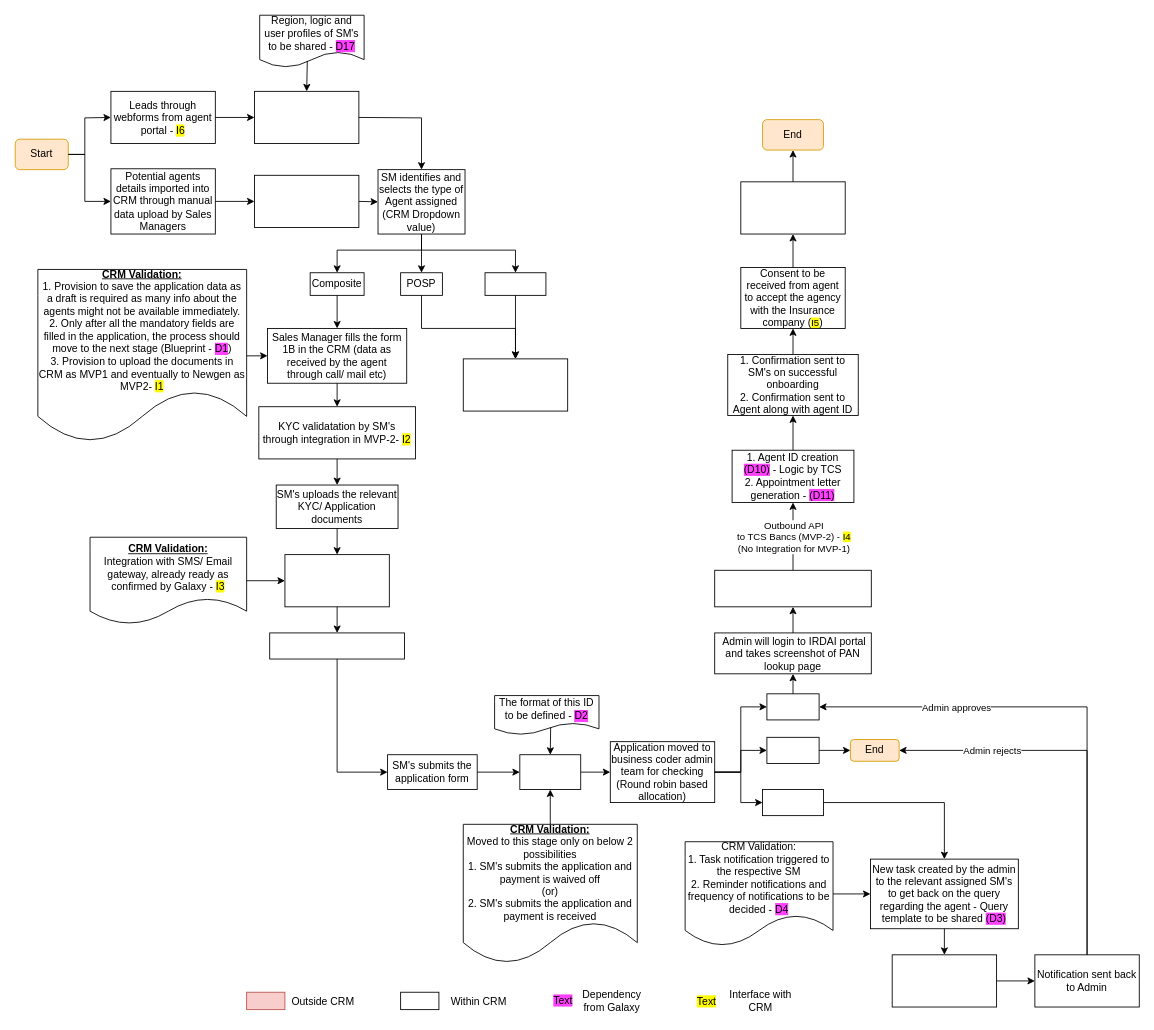
This 1154x1030 diagram has some shape labels left out. The shapes that lost their labels are listed below. From the top down, each one's centre as x and y in pixels, then its label:
At point 306,117: "SM allocated based on leads originated regions/zones".
At point 306,201: "All the agents uploaded by SM is mapped to the respective individual".
At point 792,207: "Notification for SM to validate Agent login in Agent portal".
At point 515,283: "IC 38".
At point 515,384: "Shown in separate flow".
At point 336,580: "Agent to provide the consent to start the onboarding (OTP based)".
At point 792,588: "Admin uploads screenshot of PAN lookup page in CRM".
At point 337,645: "NOC from existing Insurer (To be uploaded by SM)".
At point 792,706: "Approve".
At point 792,749: "Reject".
At point 550,772: "Create Temp ID".
At point 792,802: "Raise a query".
At point 944,980: "SM reviews, acts and resolves the task".
